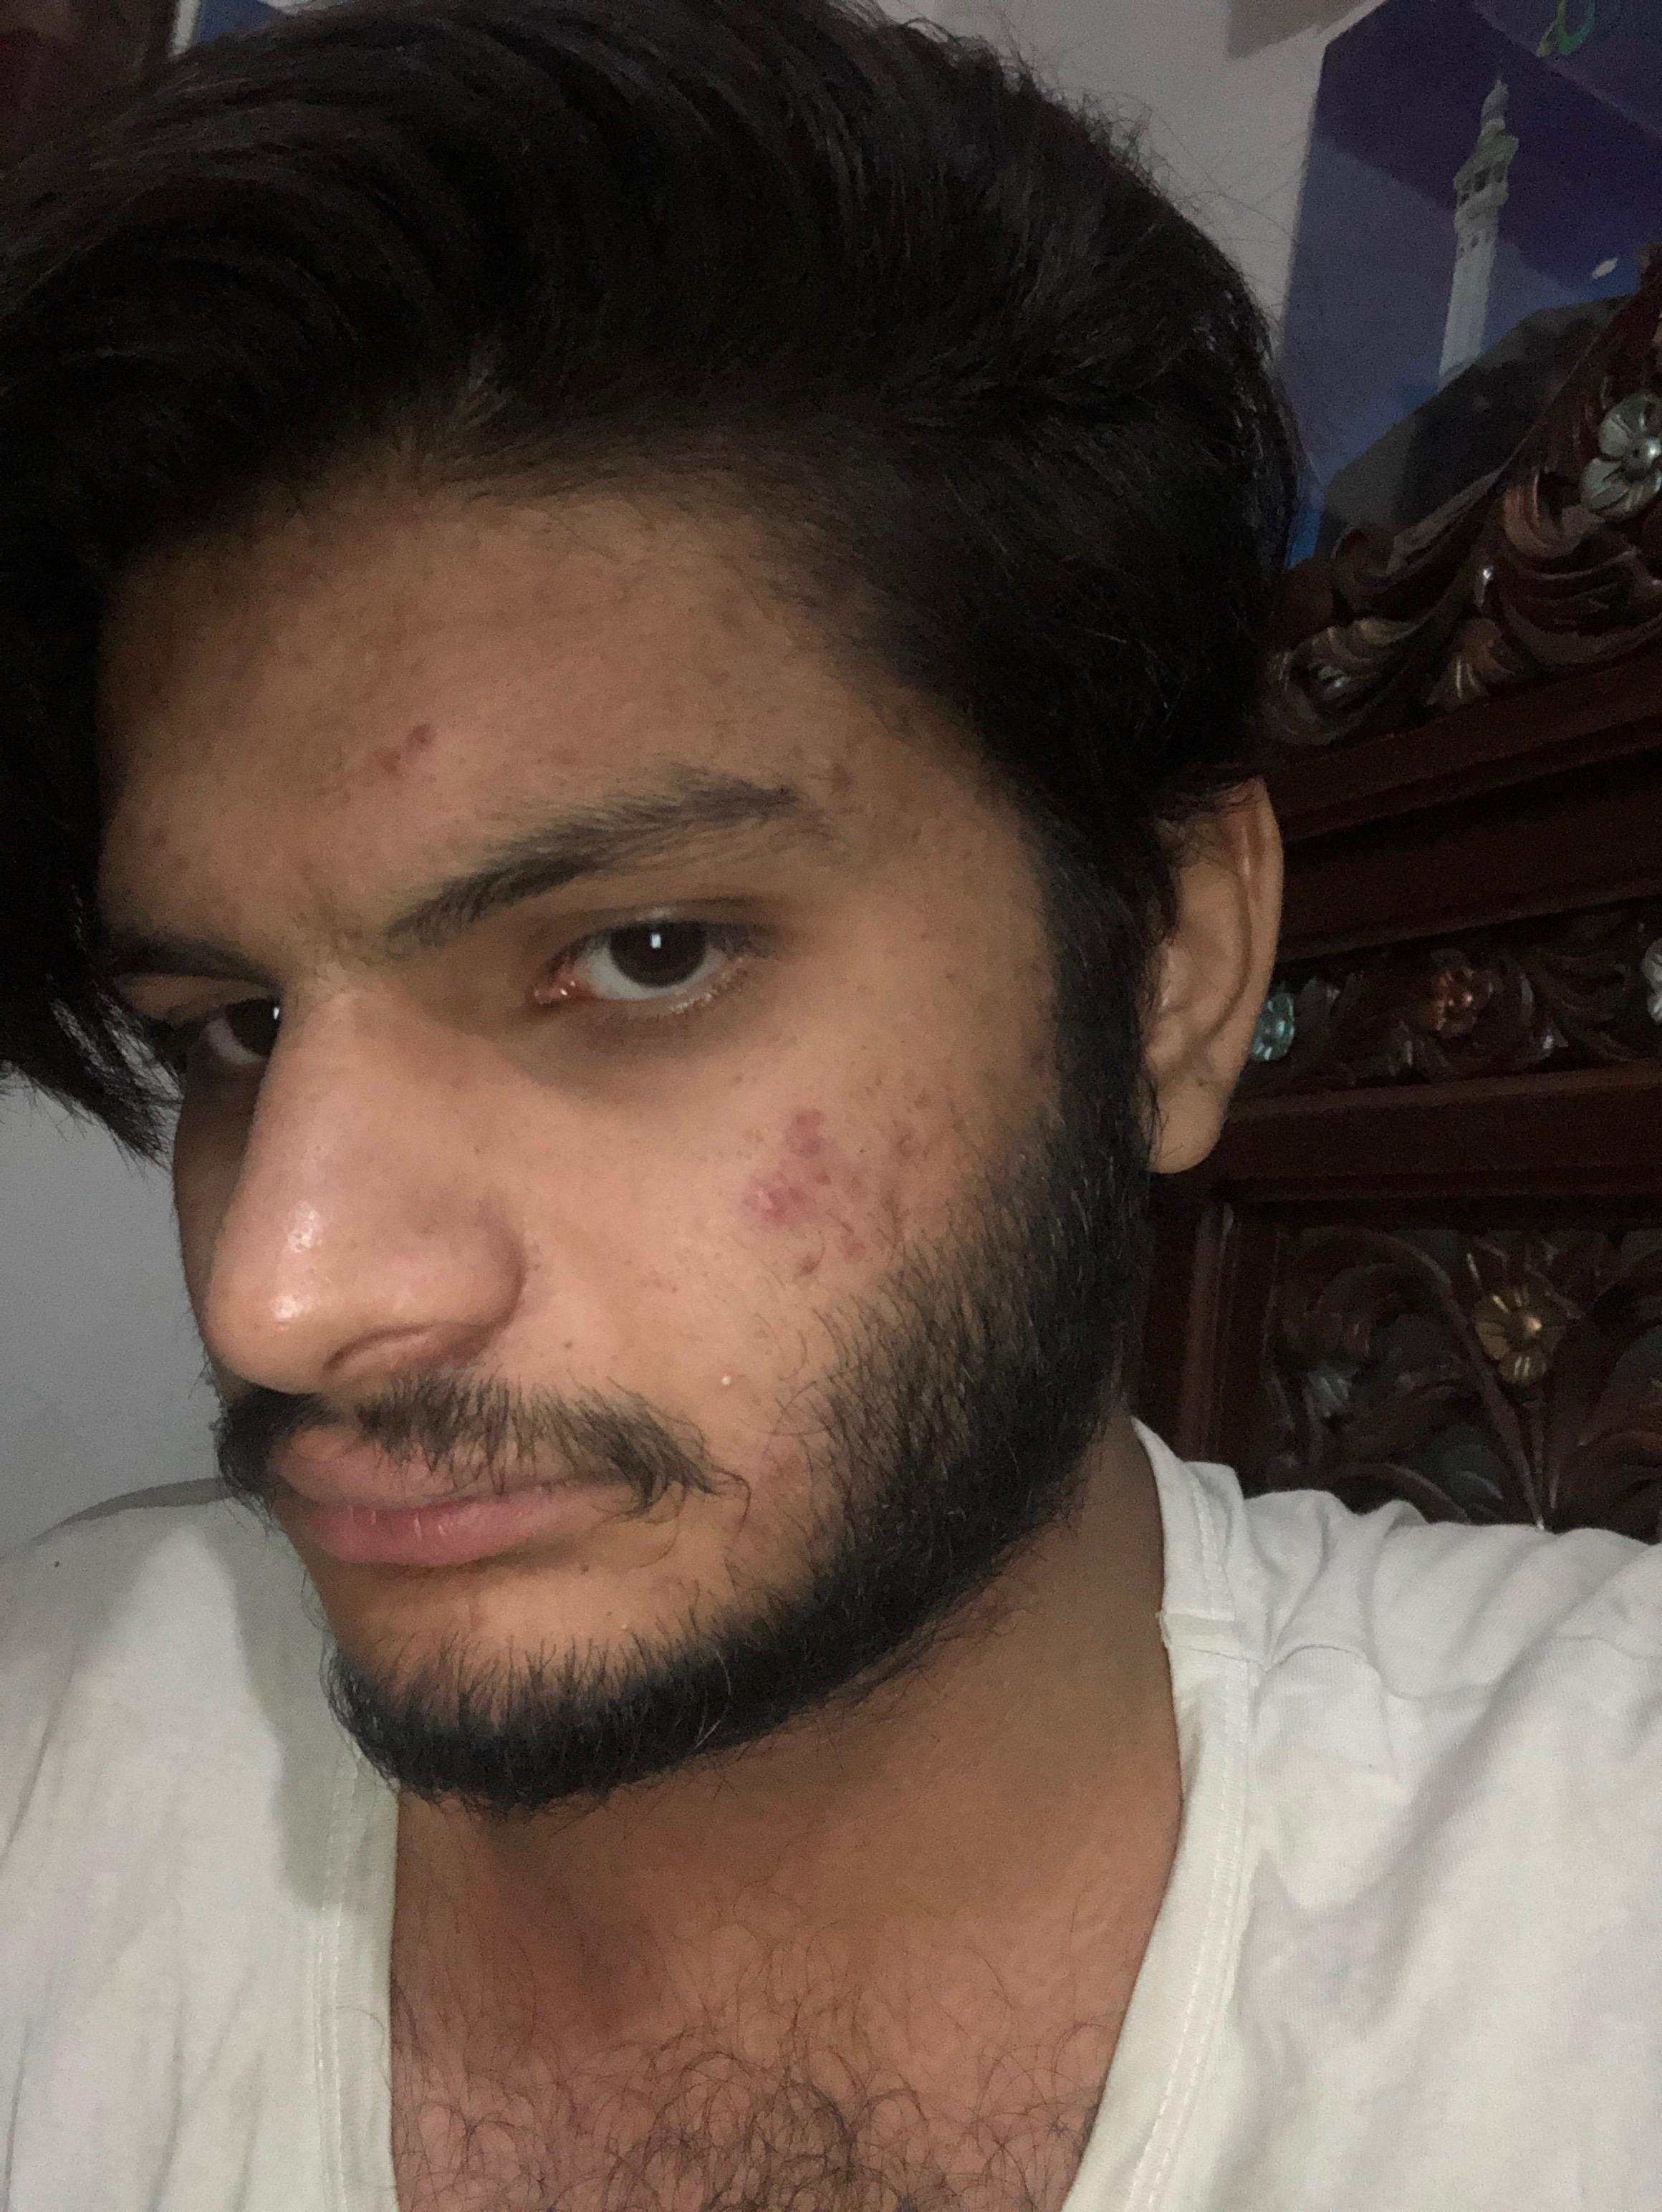Acne: (356, 709, 459, 782), (812, 709, 876, 805), (723, 1161, 815, 1226), (782, 1093, 834, 1163), (543, 714, 599, 775), (833, 1226, 897, 1274), (251, 625, 321, 669), (143, 819, 190, 876), (705, 576, 749, 635), (784, 1241, 829, 1292), (704, 1353, 749, 1400), (908, 1063, 941, 1117), (604, 571, 635, 620), (892, 1117, 920, 1166), (611, 1613, 635, 1638)
Wrinkles: (299, 861, 365, 997)
